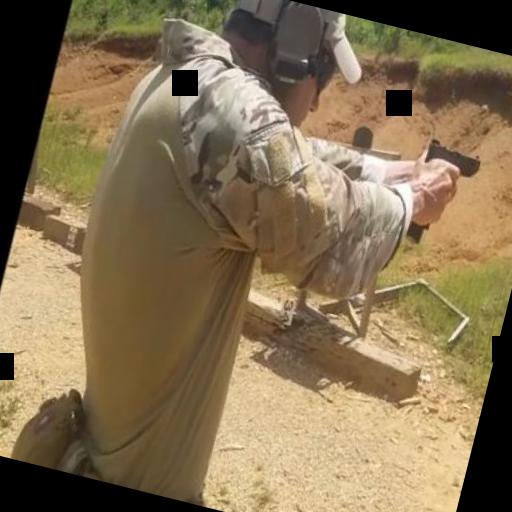Handgun: (400, 136, 486, 254)
